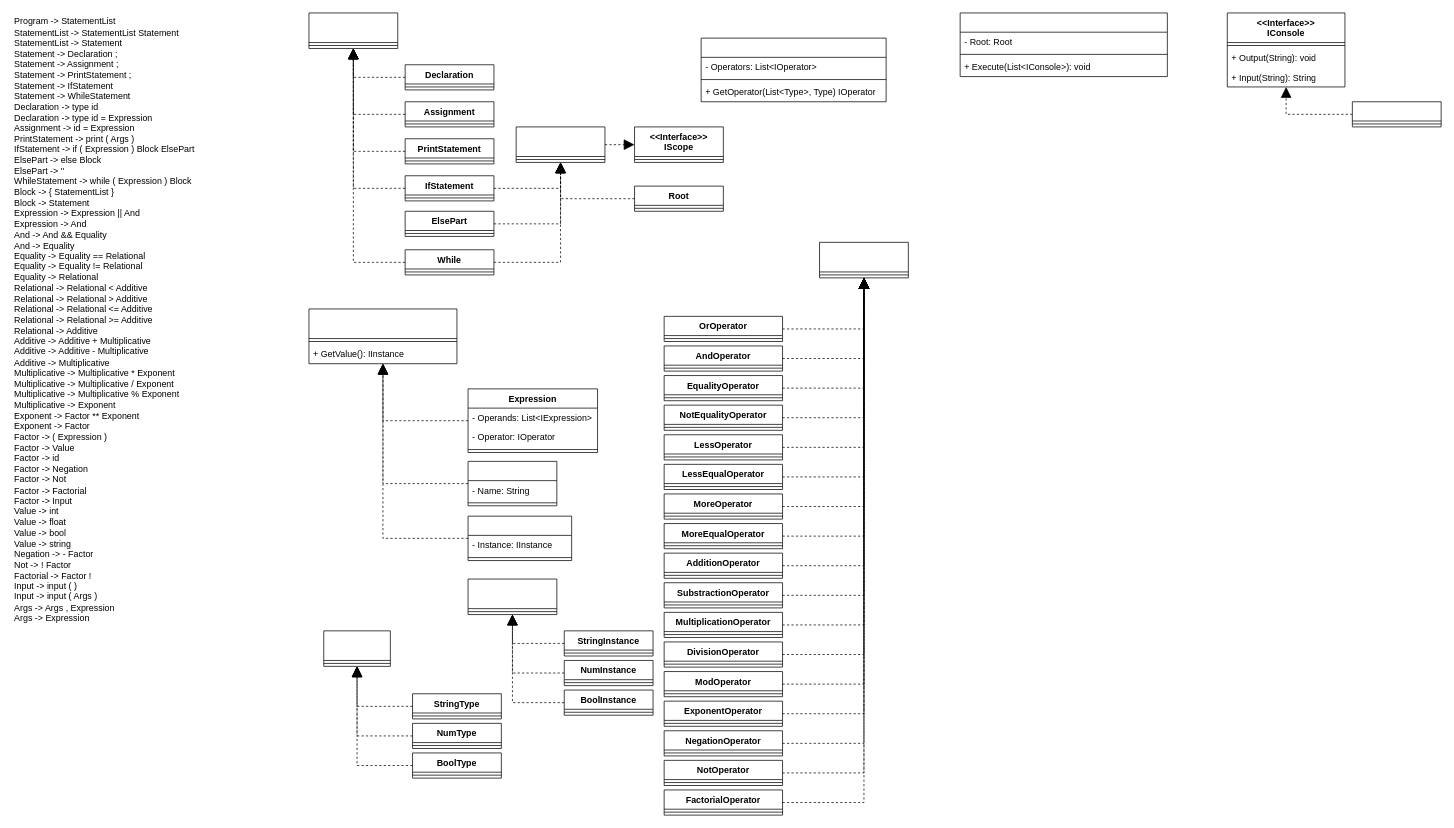
This 1454x828 diagram has some shape labels left out. Each missing label, with the box of its shape:
<<Interface>> IExpression: (308, 308, 457, 364)
<<Interface>> IInstance: (467, 578, 557, 615)
<<Interface>> IOperator: (819, 242, 908, 278)
<<Interface>> IStatement: (308, 12, 398, 48)
<<Interface>> IStatementList: (515, 126, 605, 162)
<<Interface>> IType: (323, 630, 390, 666)
Console: (1352, 101, 1441, 127)
InstanceExpression: (467, 515, 572, 561)
OperatorsManager: (700, 37, 886, 102)
Program: (959, 12, 1167, 77)
Variable: (467, 461, 557, 506)
